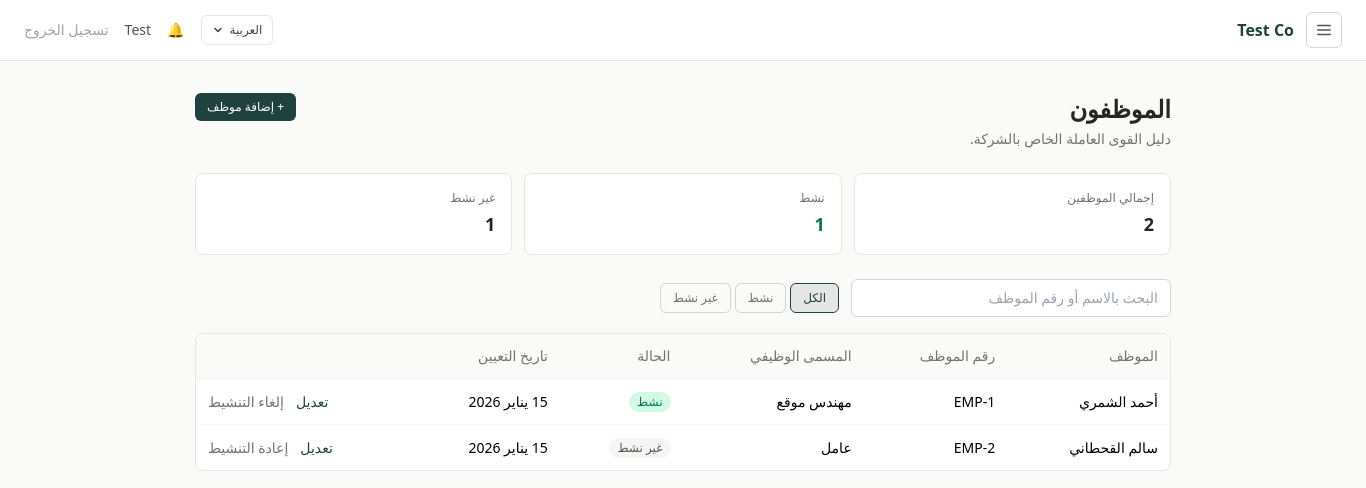
Scenario: <Employees/> › status filter narrows the list to active or inactive employees
The width and height of the screenshot is (1366, 488).
Expected: the text "أحمد الشمري" is shown, [1007,378,1170,424]
Click the button "غير نشط" at [695, 298], box [660,283,731,313]
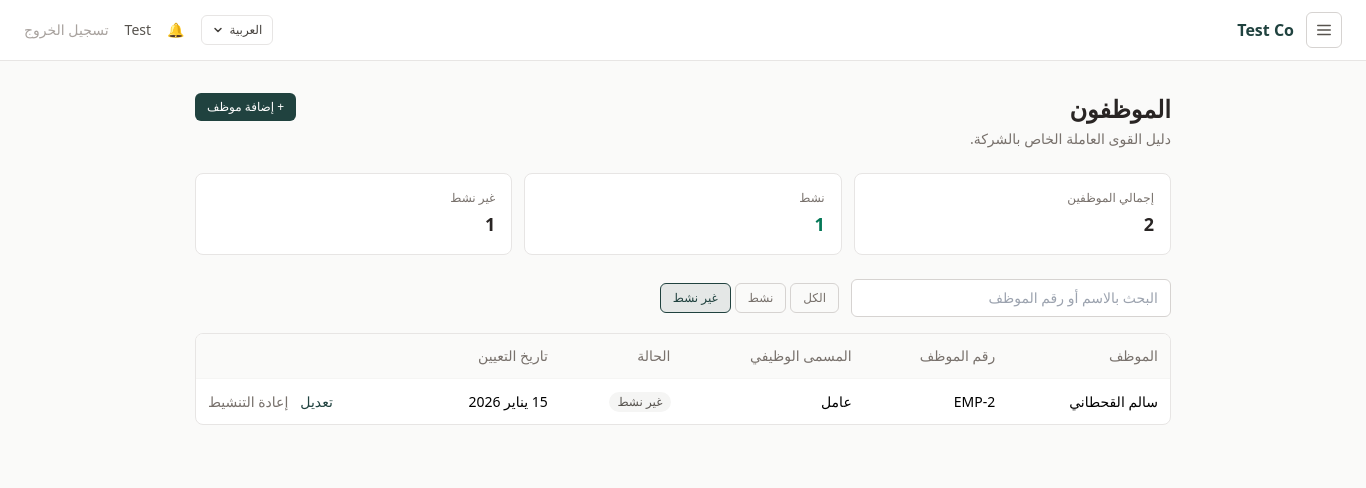
Expected: the text "سالم القحطاني" is shown, [1007,378,1170,424]
Expected: the text "أحمد الشمري" is gone
